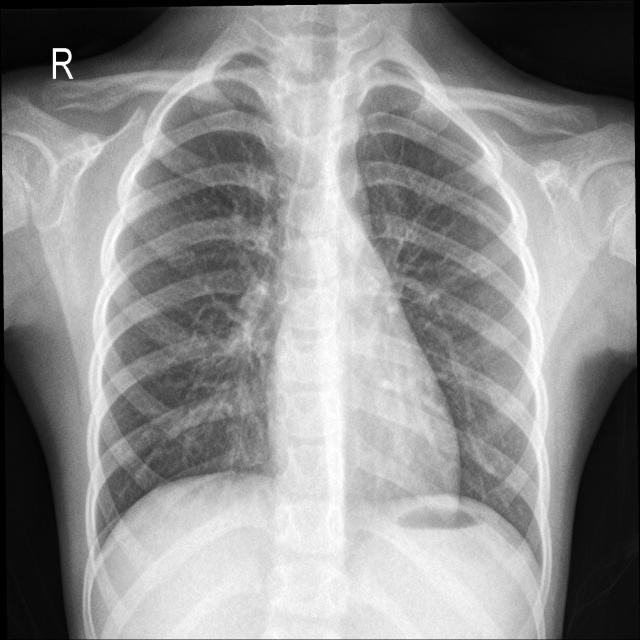no-pneumonia: (95, 54, 290, 544), (357, 84, 545, 562)
